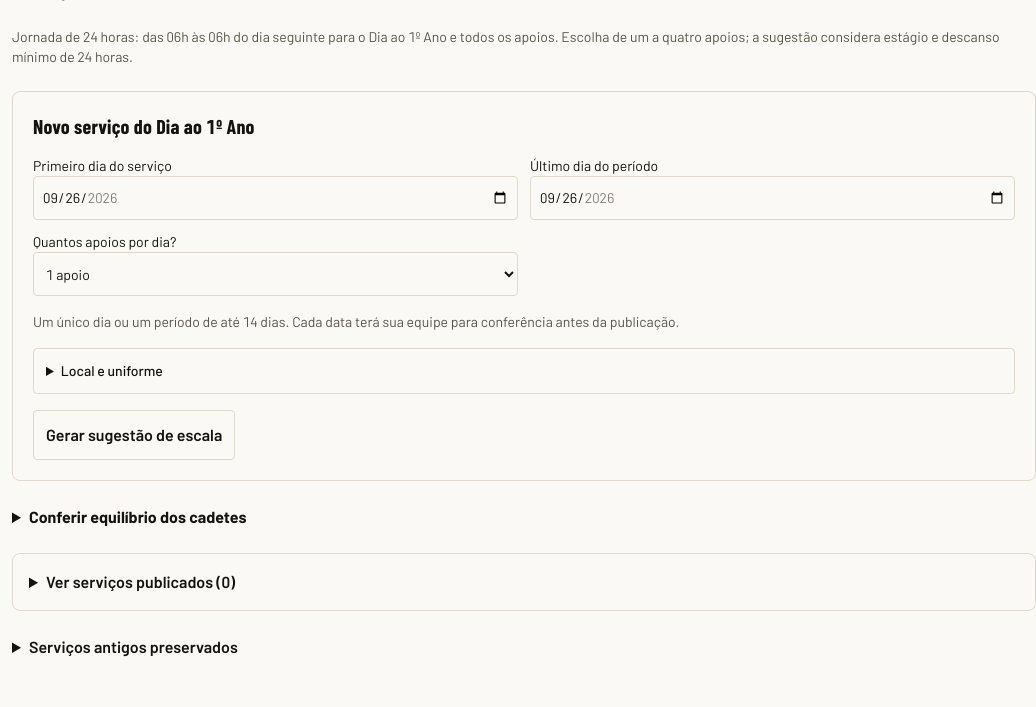
Test: horário padrão do Dia ao 1º Ano › prepara equipes distintas para dois dias consecutivos antes de publicar
This screenshot has width=1036, height=707.
Type "2026-09-27" into the date field labelled "Último dia do período" at [772, 198], box [530,176,1015,220]
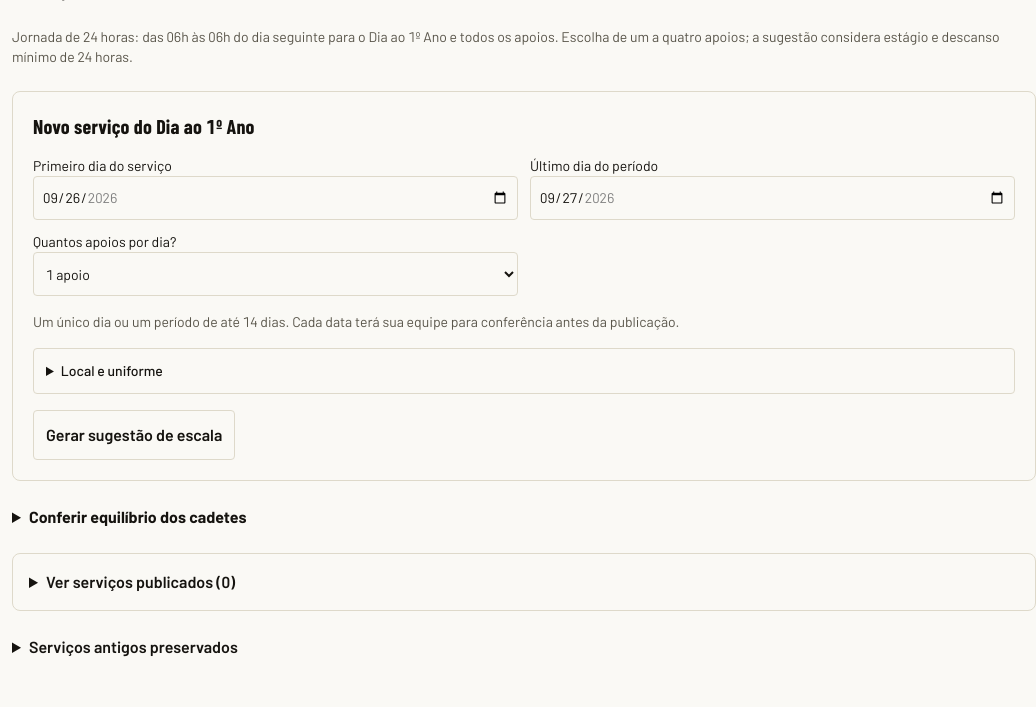
Click the button "Gerar sugestão de escala" at [134, 435], box [33,410,235,460]
(page scrolled)
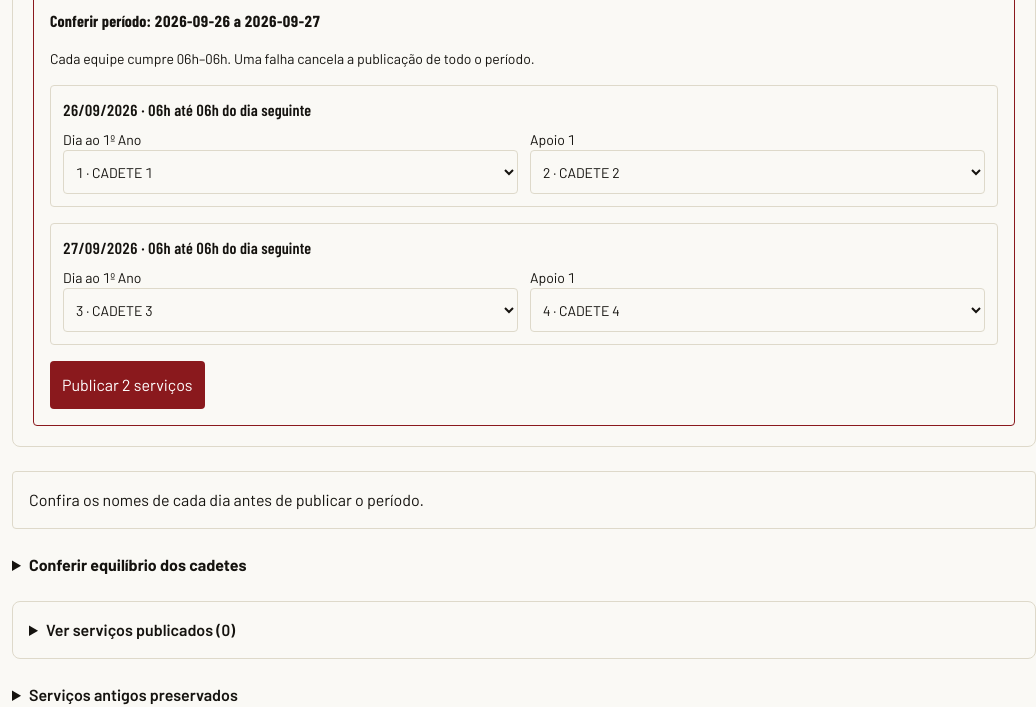
Expected: the button "Publicar 2 serviços" is enabled, [50,361,205,409]
